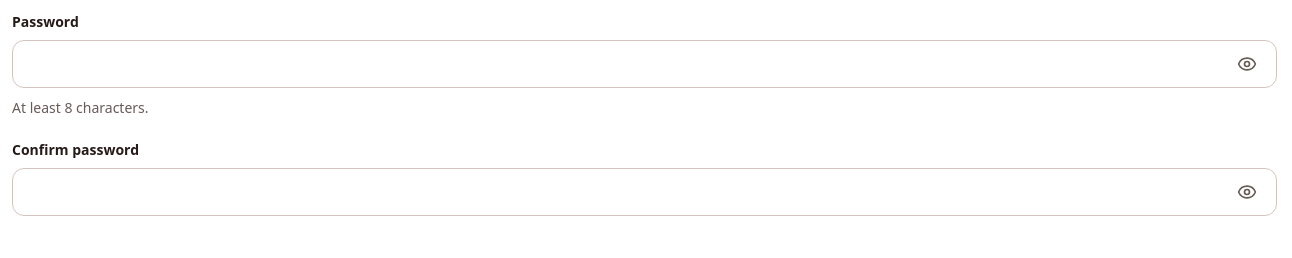
Scenario: live password feedback › toggles each password independently without submitting in en
This screenshot has width=1292, height=258.
Type "abcdefgh" into the password field labelled "Password" at {"x": 644, "y": 64}, box [12,40,1277,88]
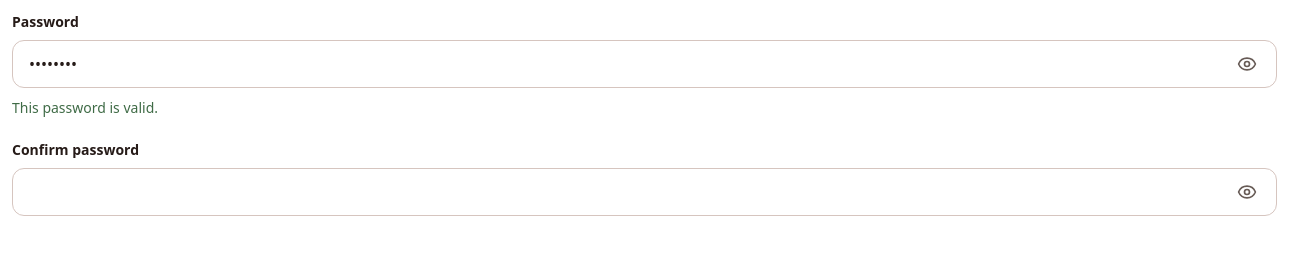
Type "abcdefgh" into the password field labelled "Confirm password" at {"x": 644, "y": 192}, box [12,168,1277,216]
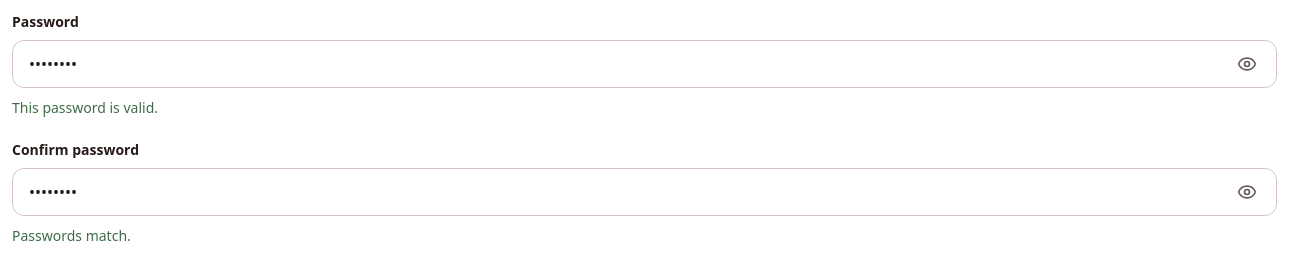
Click the button named "Show Password" at {"x": 1247, "y": 64}, box [1225,42,1269,86]
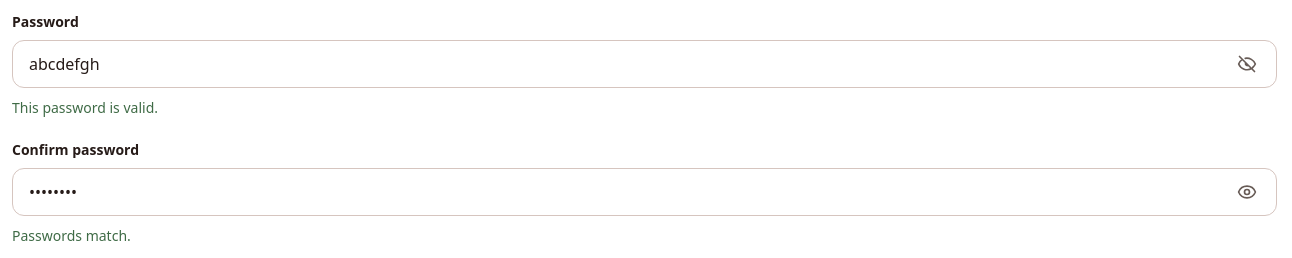
Now the field labelled "Password" shows its text, box [12,40,1277,88]
Click the button named "Show Confirm password" at {"x": 1247, "y": 192}, box [1225,170,1269,214]
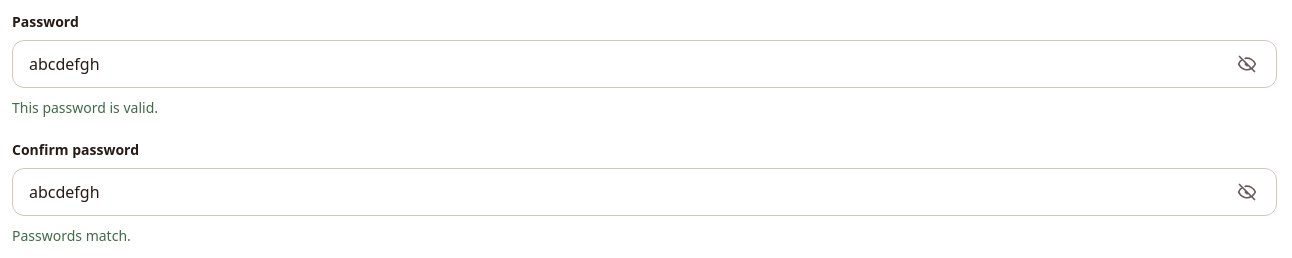
Now the field labelled "Confirm password" shows its text, box [12,168,1277,216]
Click the button named "Hide Password" at {"x": 1247, "y": 64}, box [1225,42,1269,86]
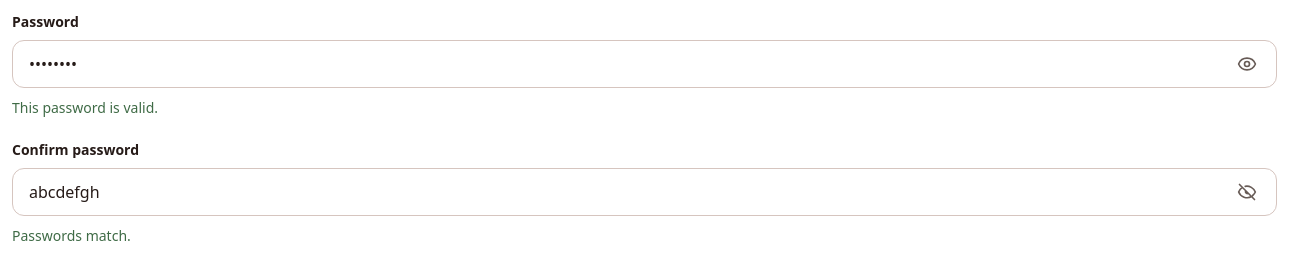
Now the field labelled "Confirm password" shows its text, box [12,168,1277,216]
Now the password field labelled "Password" hides its text, box [12,40,1277,88]
Click the button named "Hide Confirm password" at {"x": 1247, "y": 192}, box [1225,170,1269,214]
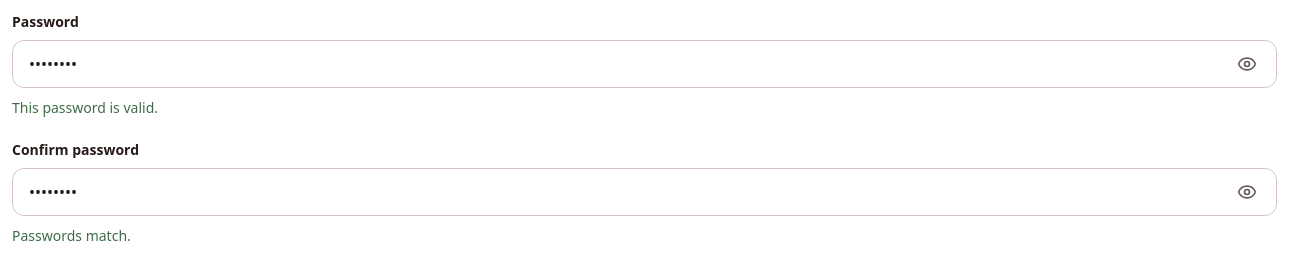
Now the password field labelled "Confirm password" hides its text, box [12,168,1277,216]
